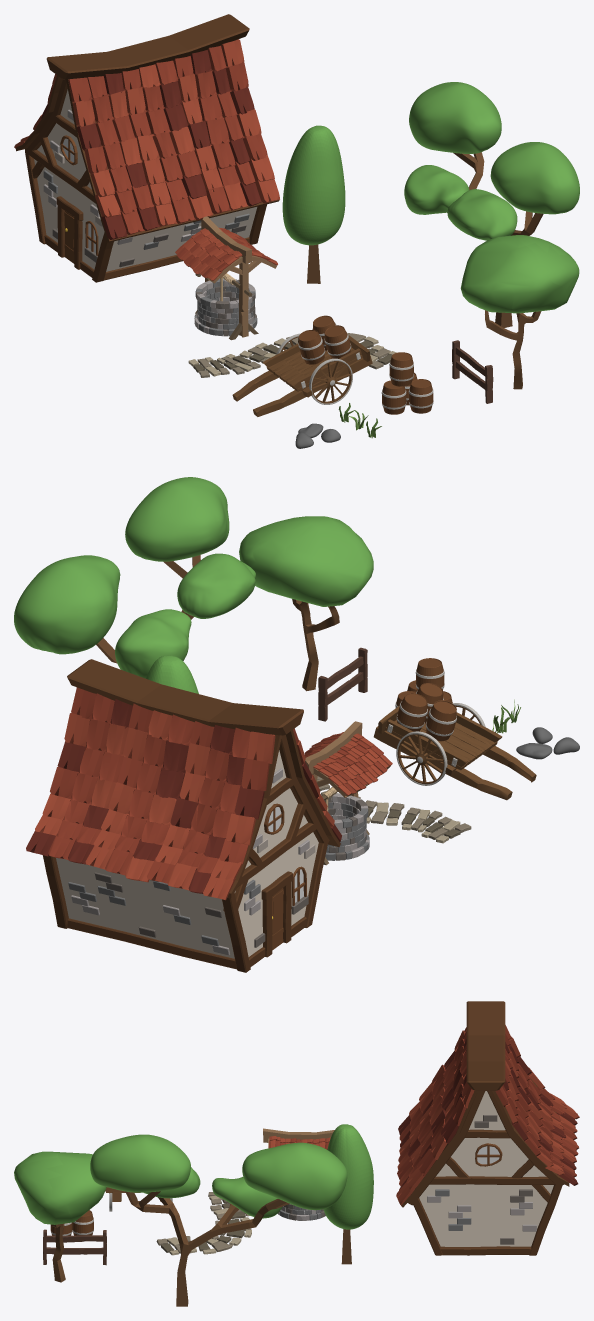
The model's file is village.glb.
The picture shows the model from 3 angles, top to bottom: view 1: azimuth 30°, elevation 25°; view 2: azimuth 150°, elevation 25°; view 3: azimuth 270°, elevation 25°; orthographic projection. The views are drawn at different scales.
Visible parts, largest first — view 1: Roof 1_8, Tree 3_22, Structure 1_6, Tree 2_21, Tree 1_20, Walls_23, Cart_0, Bricks_9, Path_12, 3 Barrels_4, Roof_10, Structure_11 (+6 smaller); view 2: Roof 1_8, Tree 3_22, Structure 1_6, Walls_23, Tree 2_21, Cart_0, Bricks 1_5, Roof_10, Bricks_9, Path_12, Door_7, Fence_16 (+6 smaller); view 3: Tree 3_22, Roof 1_8, Structure 1_6, Walls_23, Tree 2_21, Tree 1_20, Path_12, Bricks 1_5, Fence_16, 3 Barrels_4, Structure_11, Bricks_9 (+2 smaller).
Boxes of the visible parts, x1,y1,x2,y2 form: Roof 1_8: (14, 39, 279, 239); Tree 3_22: (404, 82, 579, 327); Structure 1_6: (16, 14, 279, 282); Tree 2_21: (460, 235, 579, 389); Tree 1_20: (282, 125, 345, 283); Walls_23: (34, 89, 257, 271); Cart_0: (232, 333, 372, 416); Bricks_9: (194, 279, 257, 336); Path_12: (188, 333, 396, 377); 3 Barrels_4: (381, 352, 433, 414); Roof_10: (175, 227, 277, 280); Structure_11: (190, 216, 276, 340); Roof 1_8: (26, 687, 341, 900); Tree 3_22: (14, 477, 255, 678); Structure 1_6: (43, 659, 340, 972); Walls_23: (56, 750, 318, 958); Tree 2_21: (239, 516, 373, 691); Cart_0: (373, 703, 536, 800); Bricks 1_5: (68, 768, 315, 955); Roof_10: (304, 732, 392, 795); Bricks_9: (321, 793, 369, 860); Path_12: (317, 776, 471, 843); Door_7: (261, 871, 292, 957); Fence_16: (318, 647, 367, 721); Tree 3_22: (90, 1134, 347, 1306); Roof 1_8: (396, 1025, 579, 1205); Structure 1_6: (401, 1001, 569, 1255); Walls_23: (419, 1091, 553, 1246); Tree 2_21: (14, 1151, 106, 1282); Tree 1_20: (323, 1124, 373, 1264); Path_12: (156, 1192, 251, 1255); Bricks 1_5: (427, 1115, 536, 1244); Fence_16: (43, 1229, 106, 1265); 3 Barrels_4: (50, 1210, 93, 1235); Structure_11: (263, 1128, 334, 1147); Bricks_9: (277, 1204, 325, 1220).
Bounding box in the file's own units: 8.11 × 4.82 × 13.34.
